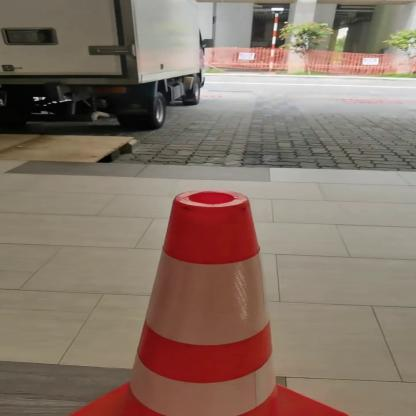cone: (66, 184, 340, 416)
